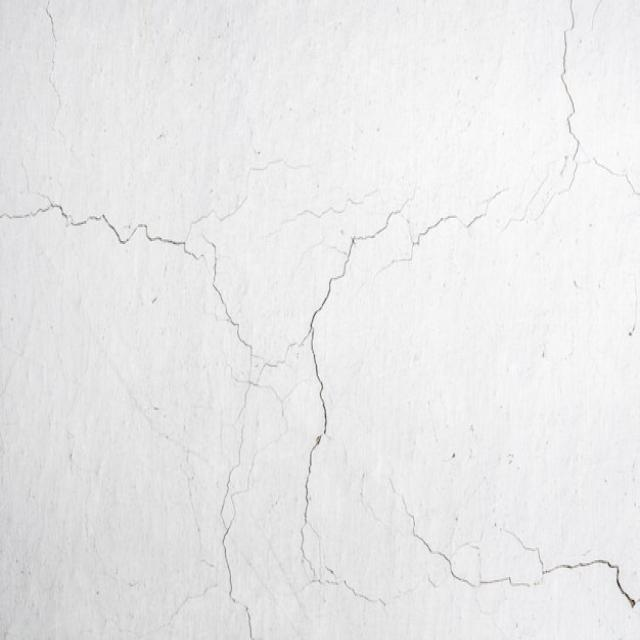Crack: (290, 188, 416, 610), (166, 242, 252, 638), (389, 474, 636, 605), (0, 153, 214, 280), (413, 160, 556, 241), (218, 155, 314, 212), (248, 324, 311, 390), (558, 0, 579, 192), (580, 144, 639, 198), (44, 0, 62, 161)
